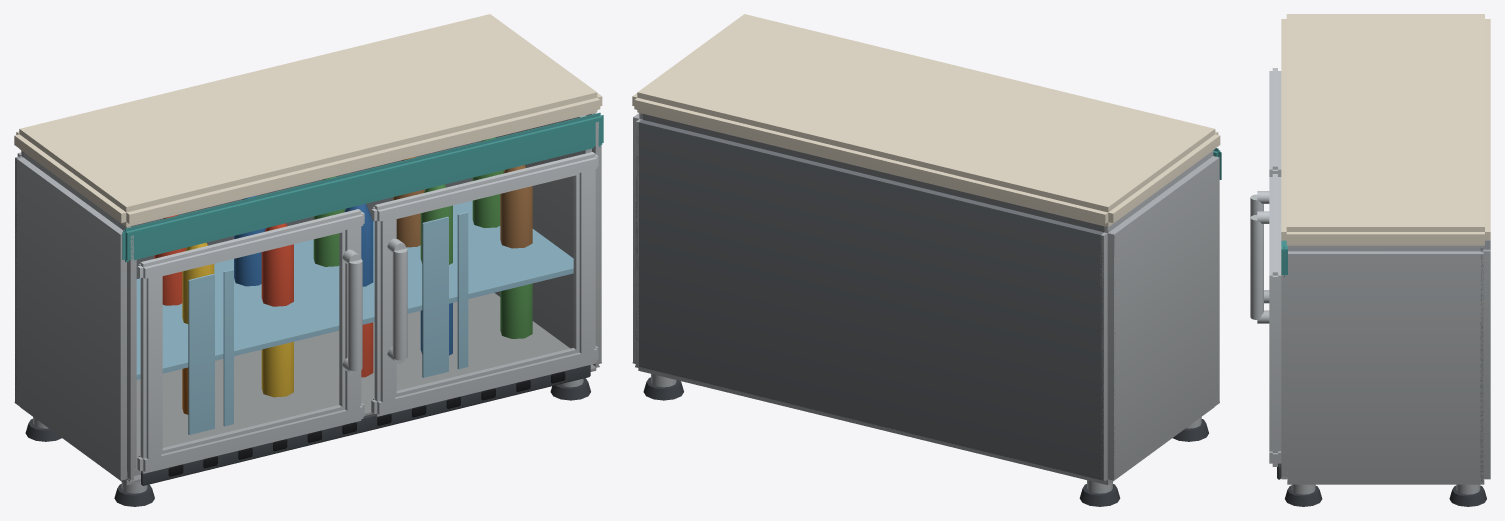
File: SM_BackBar_Cooler_15.glb
The picture shows the model from 3 angles, left to right: view 1: azimuth 30°, elevation 25°; view 2: azimuth 150°, elevation 25°; view 3: azimuth 270°, elevation 25°; orthographic projection. The views are drawn at different scales.
Parts seen in each view (by area): view 1: SM_BackBar_Cooler_15; view 2: SM_BackBar_Cooler_15; view 3: SM_BackBar_Cooler_15.
Part boxes in pixels (x1,y1,x2,y2): SM_BackBar_Cooler_15: (14,14,603,506); SM_BackBar_Cooler_15: (632,14,1221,506); SM_BackBar_Cooler_15: (1250,14,1490,506).
Size of the model in its own units: 1.5 by 0.9 by 0.7.
1 material, 1 textured.
